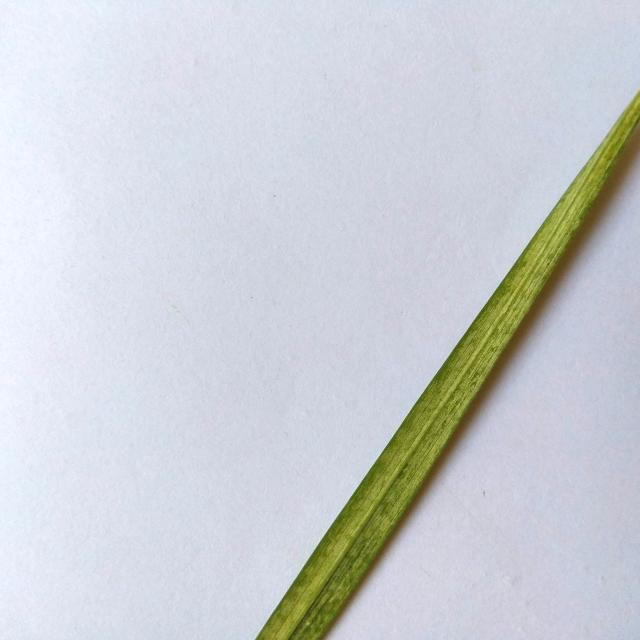Rice_Healthy: (256, 91, 640, 640)
